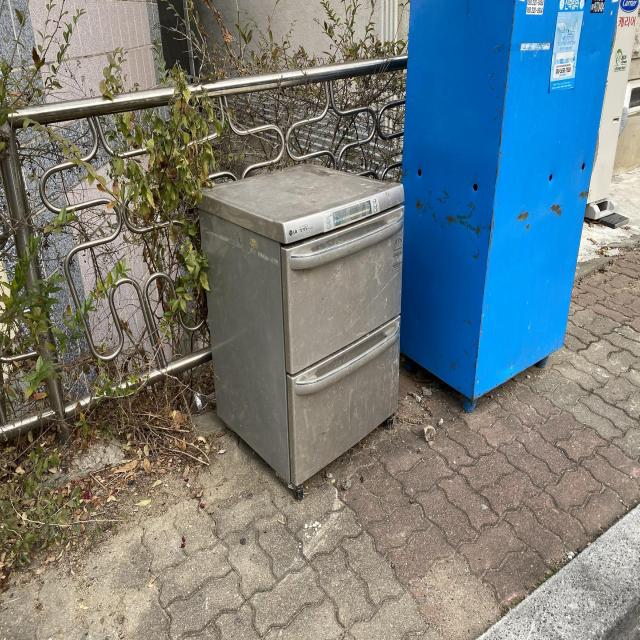refrigerator: (195, 160, 408, 495)
